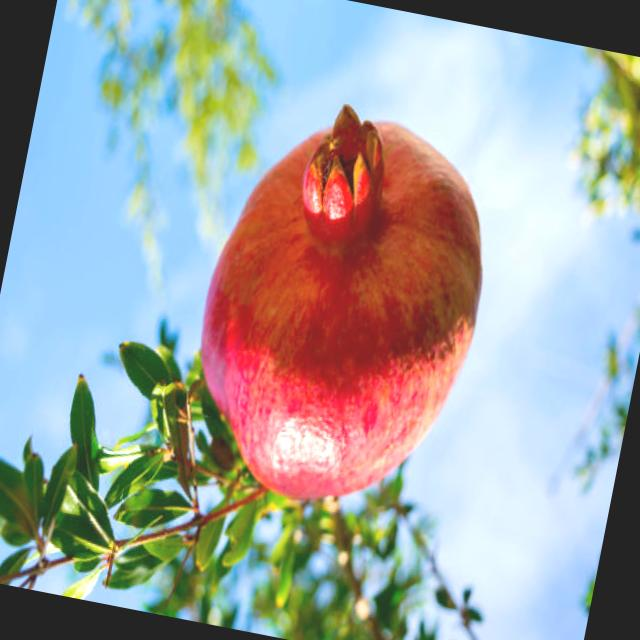Ripe: (166, 76, 520, 536)
